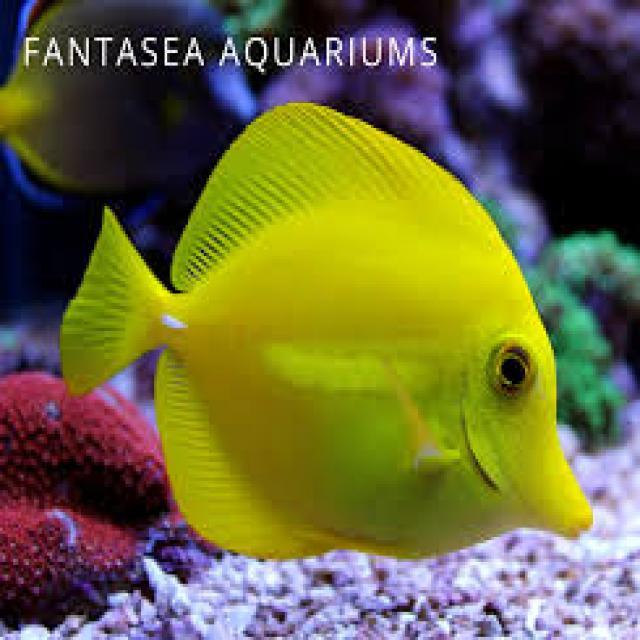YellowTang: (64, 91, 604, 585)
